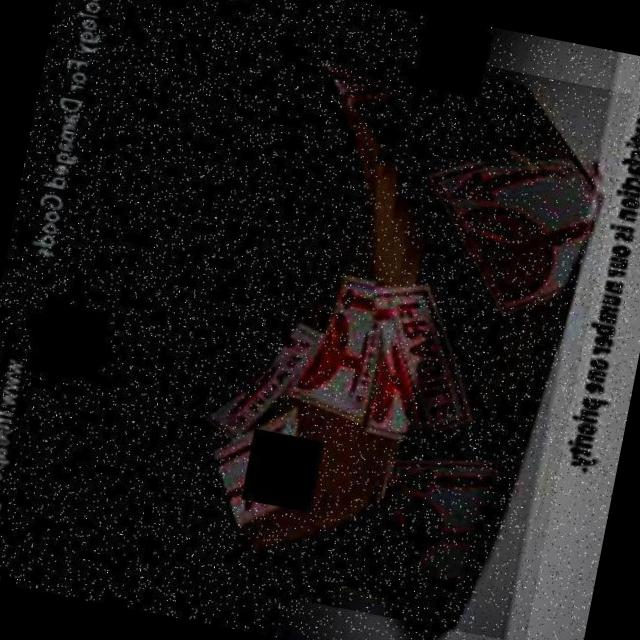box: (157, 23, 632, 640)
